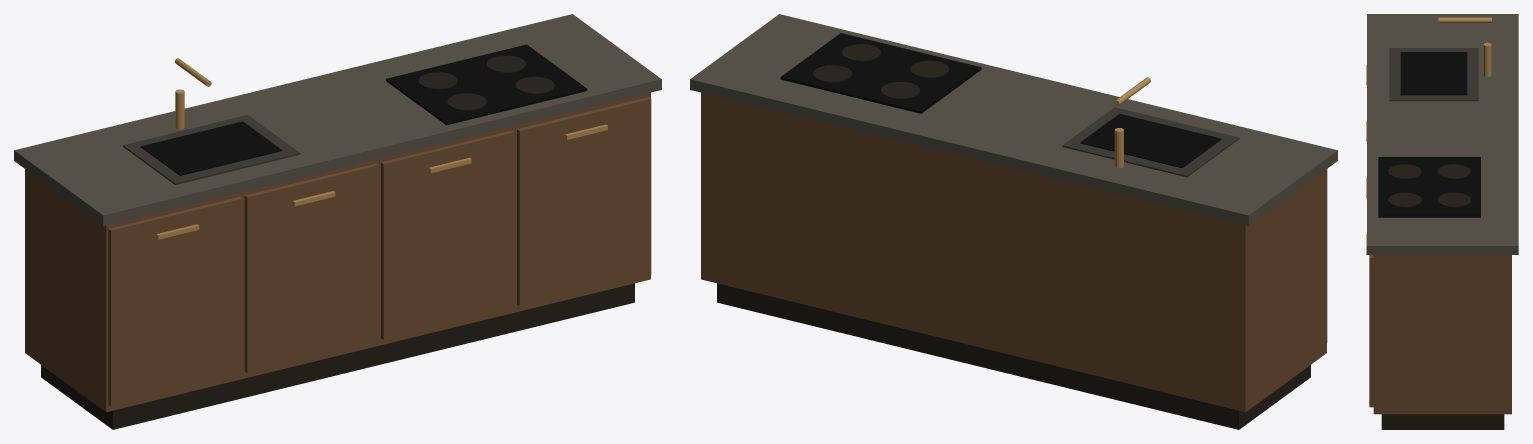
The picture shows the model from 3 angles, left to right: view 1: azimuth 30°, elevation 25°; view 2: azimuth 150°, elevation 25°; view 3: azimuth 270°, elevation 25°; orthographic projection. The views are drawn at different scales.
Visible parts, largest first — view 1: kitchen; view 2: kitchen; view 3: kitchen.
Part boxes in pixels (x1=…): kitchen: x1=14, y1=14, x2=661, y2=429; kitchen: x1=690, y1=14, x2=1337, y2=429; kitchen: x1=1366, y1=14, x2=1518, y2=429.
Bounding box in the file's own units: 2.46 × 1.23 × 0.684.
